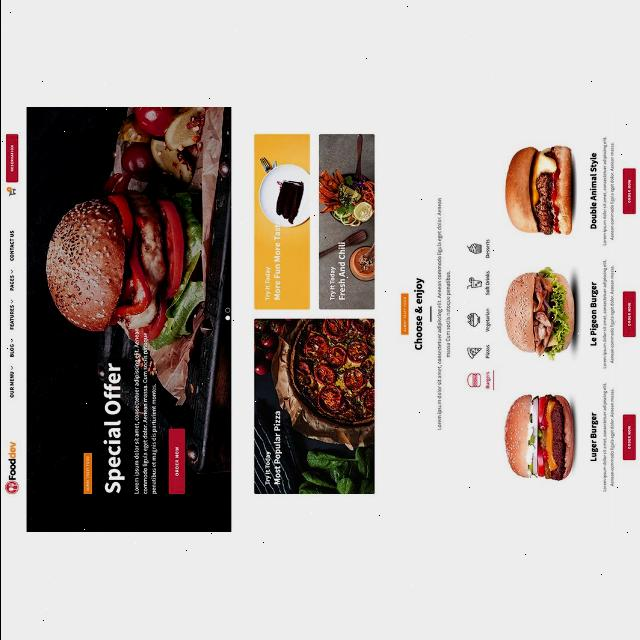QLabel: (434, 196, 452, 434), (600, 383, 614, 493), (600, 260, 614, 370), (602, 136, 614, 248), (412, 276, 424, 354), (588, 153, 598, 230), (588, 280, 598, 348), (588, 410, 598, 464), (400, 294, 408, 336), (7, 306, 16, 330), (8, 372, 15, 400), (8, 230, 14, 262), (484, 310, 490, 332), (7, 276, 15, 292), (8, 344, 15, 360), (9, 144, 13, 172), (484, 372, 490, 390), (484, 272, 488, 296), (627, 426, 631, 450), (626, 303, 630, 327), (626, 180, 630, 204), (484, 346, 490, 358), (484, 240, 488, 258)
VAppBar: (1, 108, 26, 532)
VBadge: (5, 187, 15, 197)
VBtn: (620, 415, 636, 461), (621, 168, 635, 216), (621, 292, 635, 338), (5, 135, 17, 183)
VCarousel: (27, 108, 230, 532), (498, 132, 640, 494)
VDivider: (428, 306, 432, 324)
VIcon: (10, 270, 12, 274), (10, 300, 12, 304), (10, 339, 12, 343), (10, 367, 12, 371)
VImg: (253, 320, 373, 494), (318, 134, 374, 310), (254, 135, 308, 309), (504, 141, 576, 237), (502, 266, 578, 356), (504, 392, 576, 482), (1, 440, 21, 498), (466, 374, 480, 388), (466, 348, 480, 360), (466, 279, 480, 291), (466, 243, 480, 254), (466, 314, 478, 326)
VTabs: (460, 108, 640, 510)
